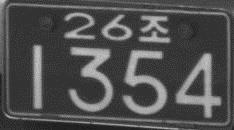1: (19, 45, 58, 109)
2: (63, 11, 95, 40)
3: (67, 45, 114, 113)
4: (175, 52, 222, 118)
5: (121, 48, 168, 116)
6: (100, 13, 133, 41)
조: (138, 15, 171, 43)
